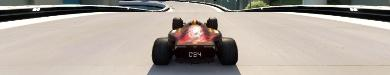Car: (151, 17, 238, 65)
Tree: (244, 0, 268, 8)
curve: (0, 4, 389, 72)
obstacles-Borders: (0, 3, 147, 23), (243, 4, 389, 23)
